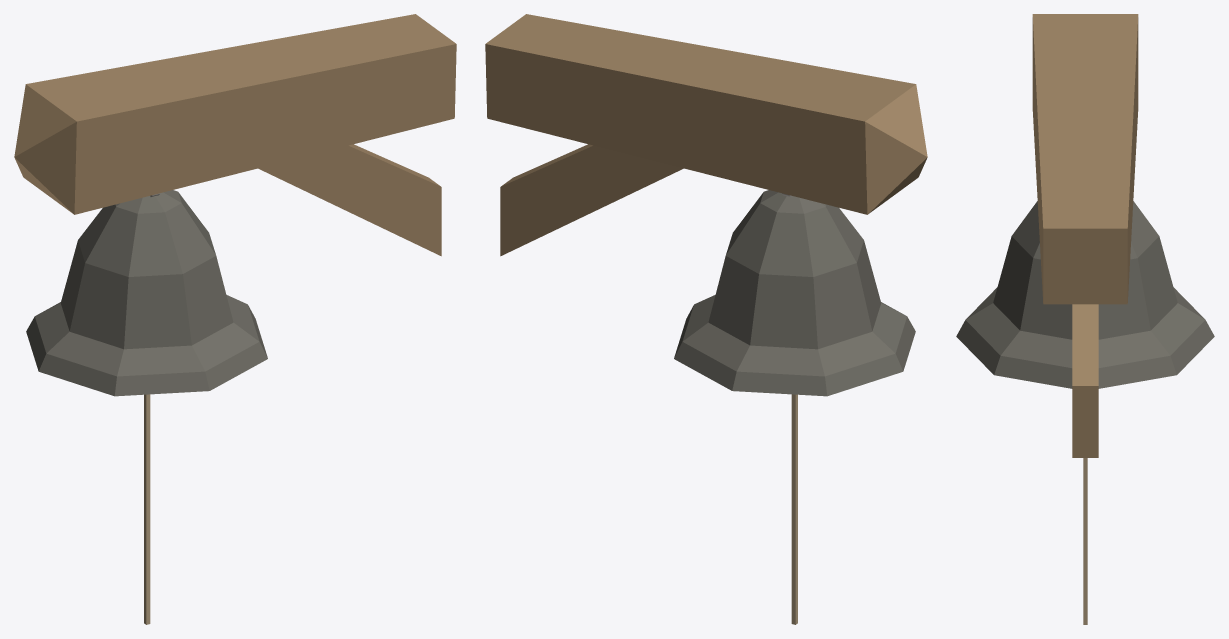
The model's file is Bell.glb.
3 renders of one model, left to right at view 1: azimuth 30°, elevation 25°; view 2: azimuth 150°, elevation 25°; view 3: azimuth 270°, elevation 25°, orthographic. The views are drawn at different scales.
Parts seen in each view (by area): view 1: mergedBlocks(Clone); view 2: mergedBlocks(Clone); view 3: mergedBlocks(Clone).
Boxes of the visible parts, box(x1,y1,x2,y2) form: mergedBlocks(Clone): box(14, 14, 456, 624); mergedBlocks(Clone): box(485, 14, 927, 624); mergedBlocks(Clone): box(956, 14, 1214, 624).
Size of the model in its own units: 2.86 by 3.52 by 1.47.
